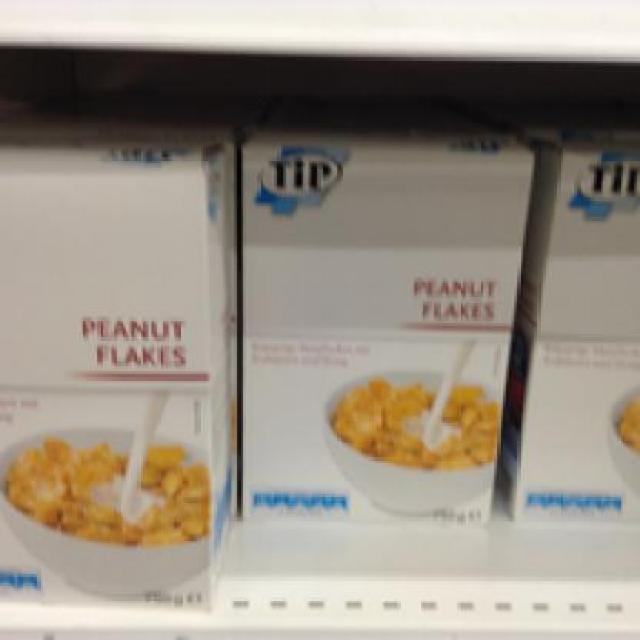Cereal: (239, 120, 532, 523), (0, 133, 232, 606), (514, 137, 637, 520)
